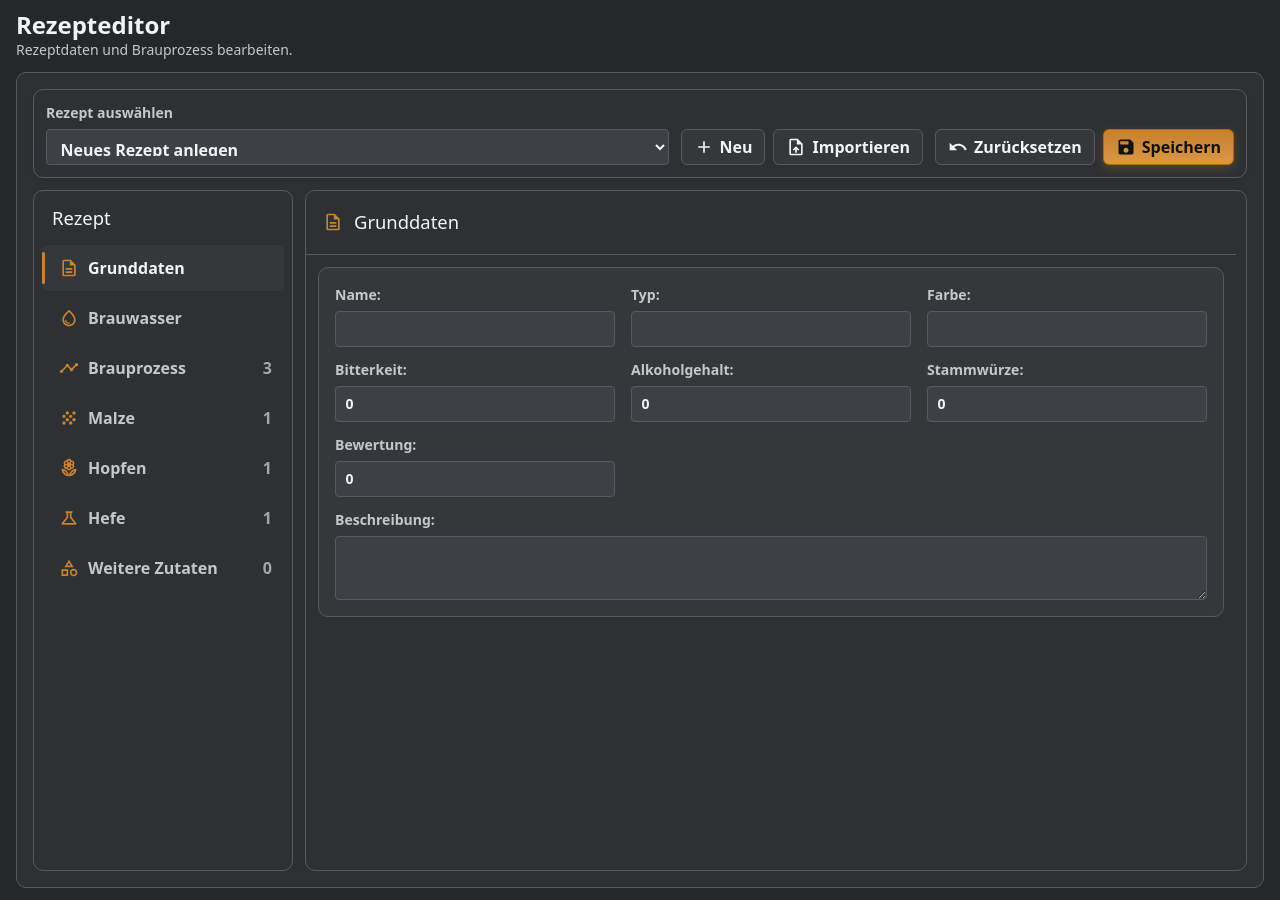
Test case: BeerForm section navigation › preserves an existing cooking temperature while showing it read-only in the mash plan
Select "Alt" in the dropdown labelled "Rezept auswählen": (357, 147) [46,129,668,165]
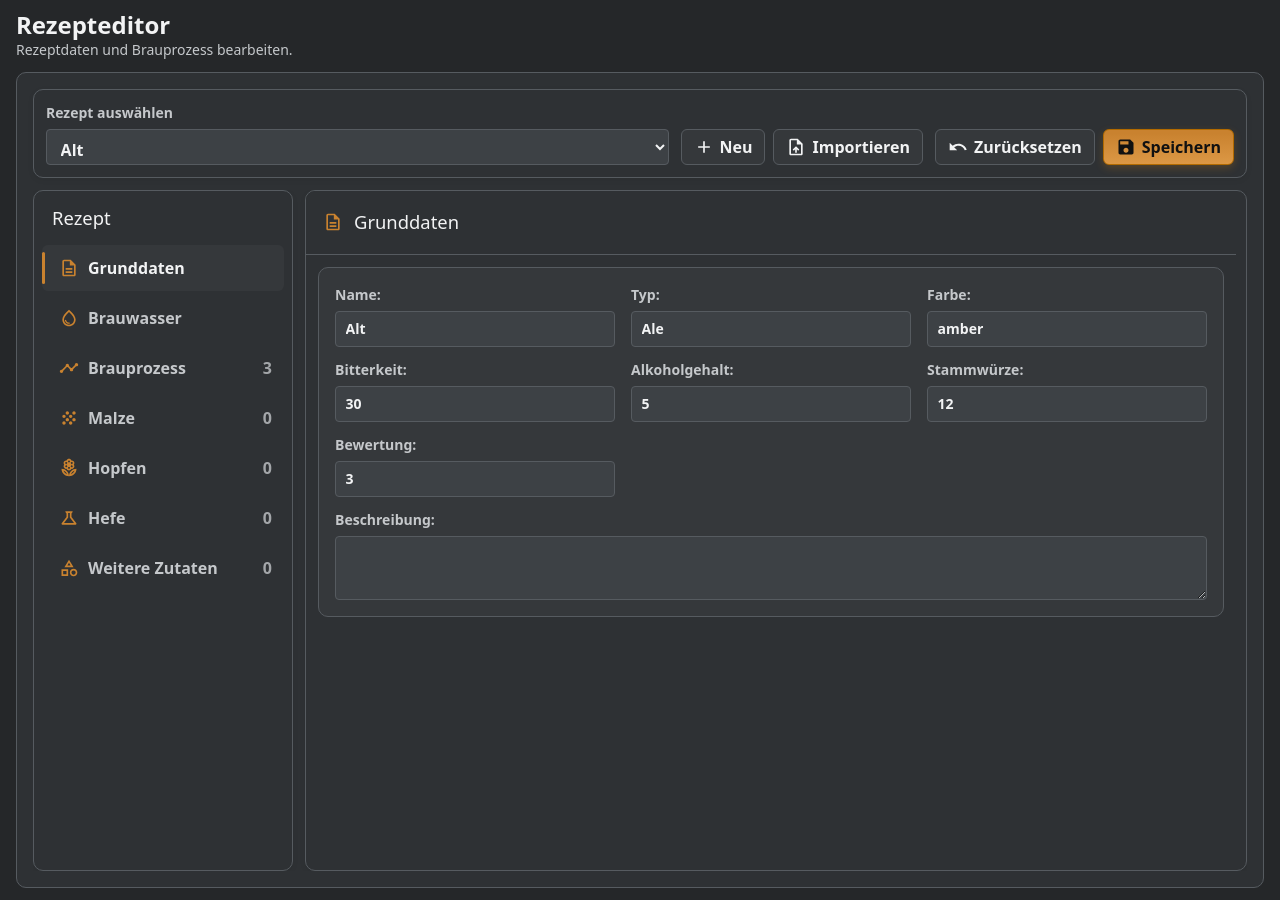
Click the button "Brauprozess 3": (163, 368) [42,345,284,391]
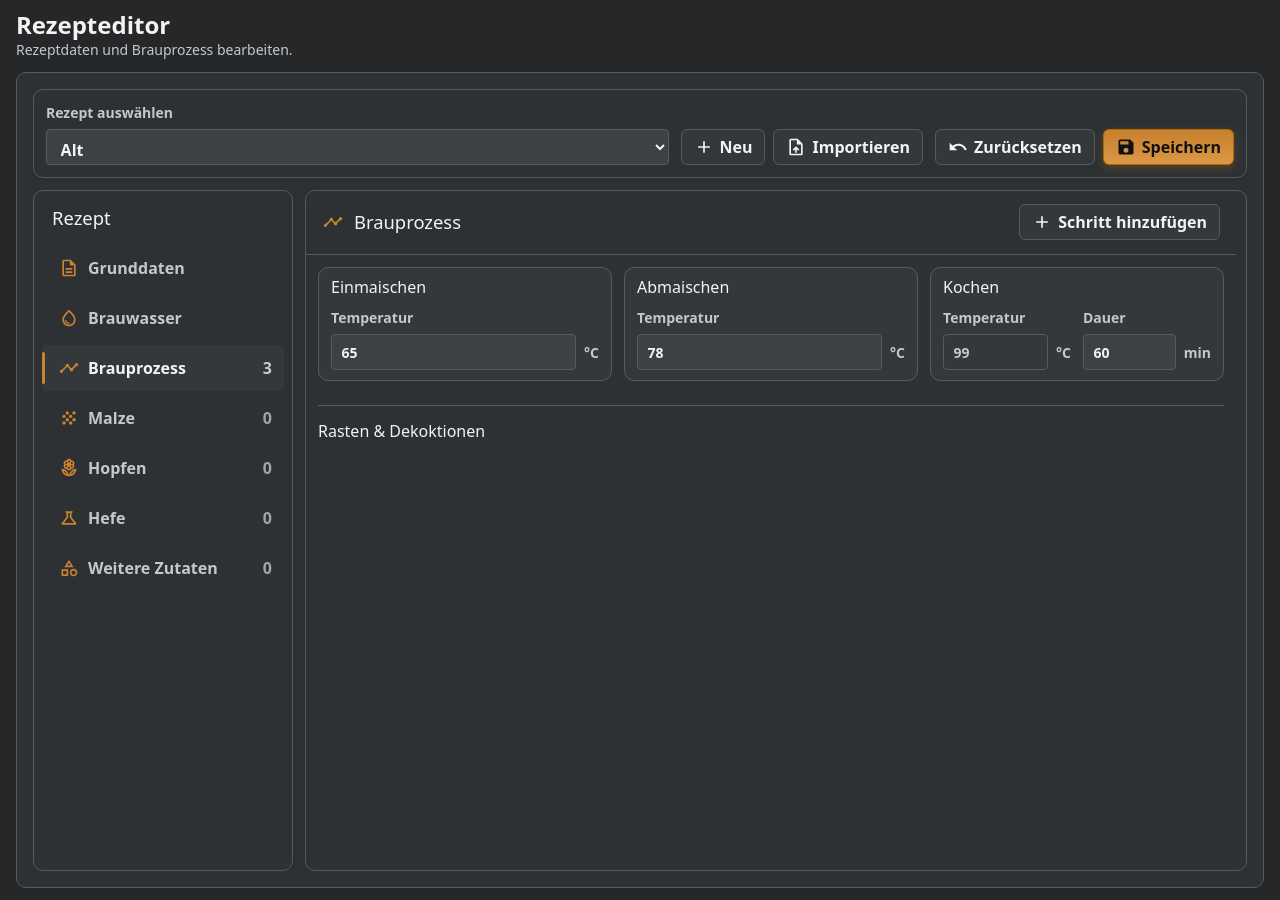
Expected: the number field named "Kochtemperatur im Brauprozess" holds "99", [943,334,1048,370]
